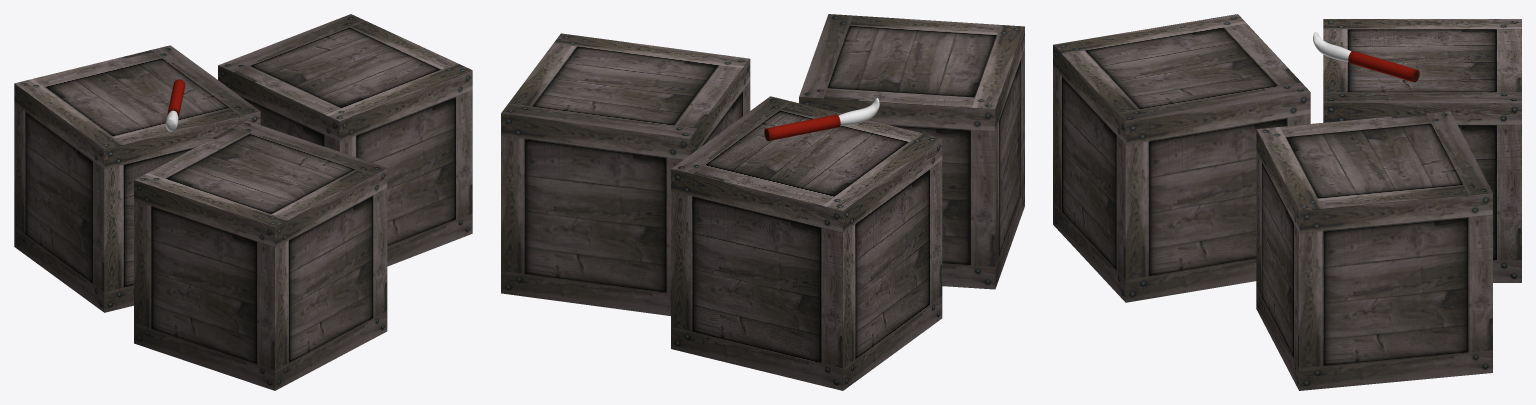
The picture shows the model from 3 angles, left to right: view 1: azimuth 30°, elevation 25°; view 2: azimuth 150°, elevation 25°; view 3: azimuth 270°, elevation 25°; orthographic projection. The views are drawn at different scales.
Visible parts, largest first — view 1: Cube.001, Cube.003, Cube.002, Cylinder; view 2: Cube.003, Cube.002, Cube.001, Cylinder, Mball.001; view 3: Cube.002, Cube.001, Cube.003, Cylinder, Mball.001.
Boxes of the visible parts, bbox=[...] form: Cube.001: bbox=[134, 120, 387, 390]; Cube.003: bbox=[14, 45, 260, 312]; Cube.002: bbox=[218, 14, 472, 266]; Cylinder: bbox=[167, 79, 185, 116]; Cube.003: bbox=[671, 96, 942, 390]; Cube.002: bbox=[501, 33, 750, 315]; Cube.001: bbox=[799, 14, 1024, 289]; Cylinder: bbox=[764, 114, 840, 140]; Mball.001: bbox=[838, 98, 879, 125]; Cube.002: bbox=[1256, 111, 1492, 390]; Cube.001: bbox=[1053, 14, 1310, 302]; Cube.003: bbox=[1323, 19, 1521, 282]; Cylinder: bbox=[1348, 51, 1419, 82]; Mball.001: bbox=[1313, 32, 1351, 61].
Bounding box in the file's own units: 4.69 × 4.72 × 2.23.
